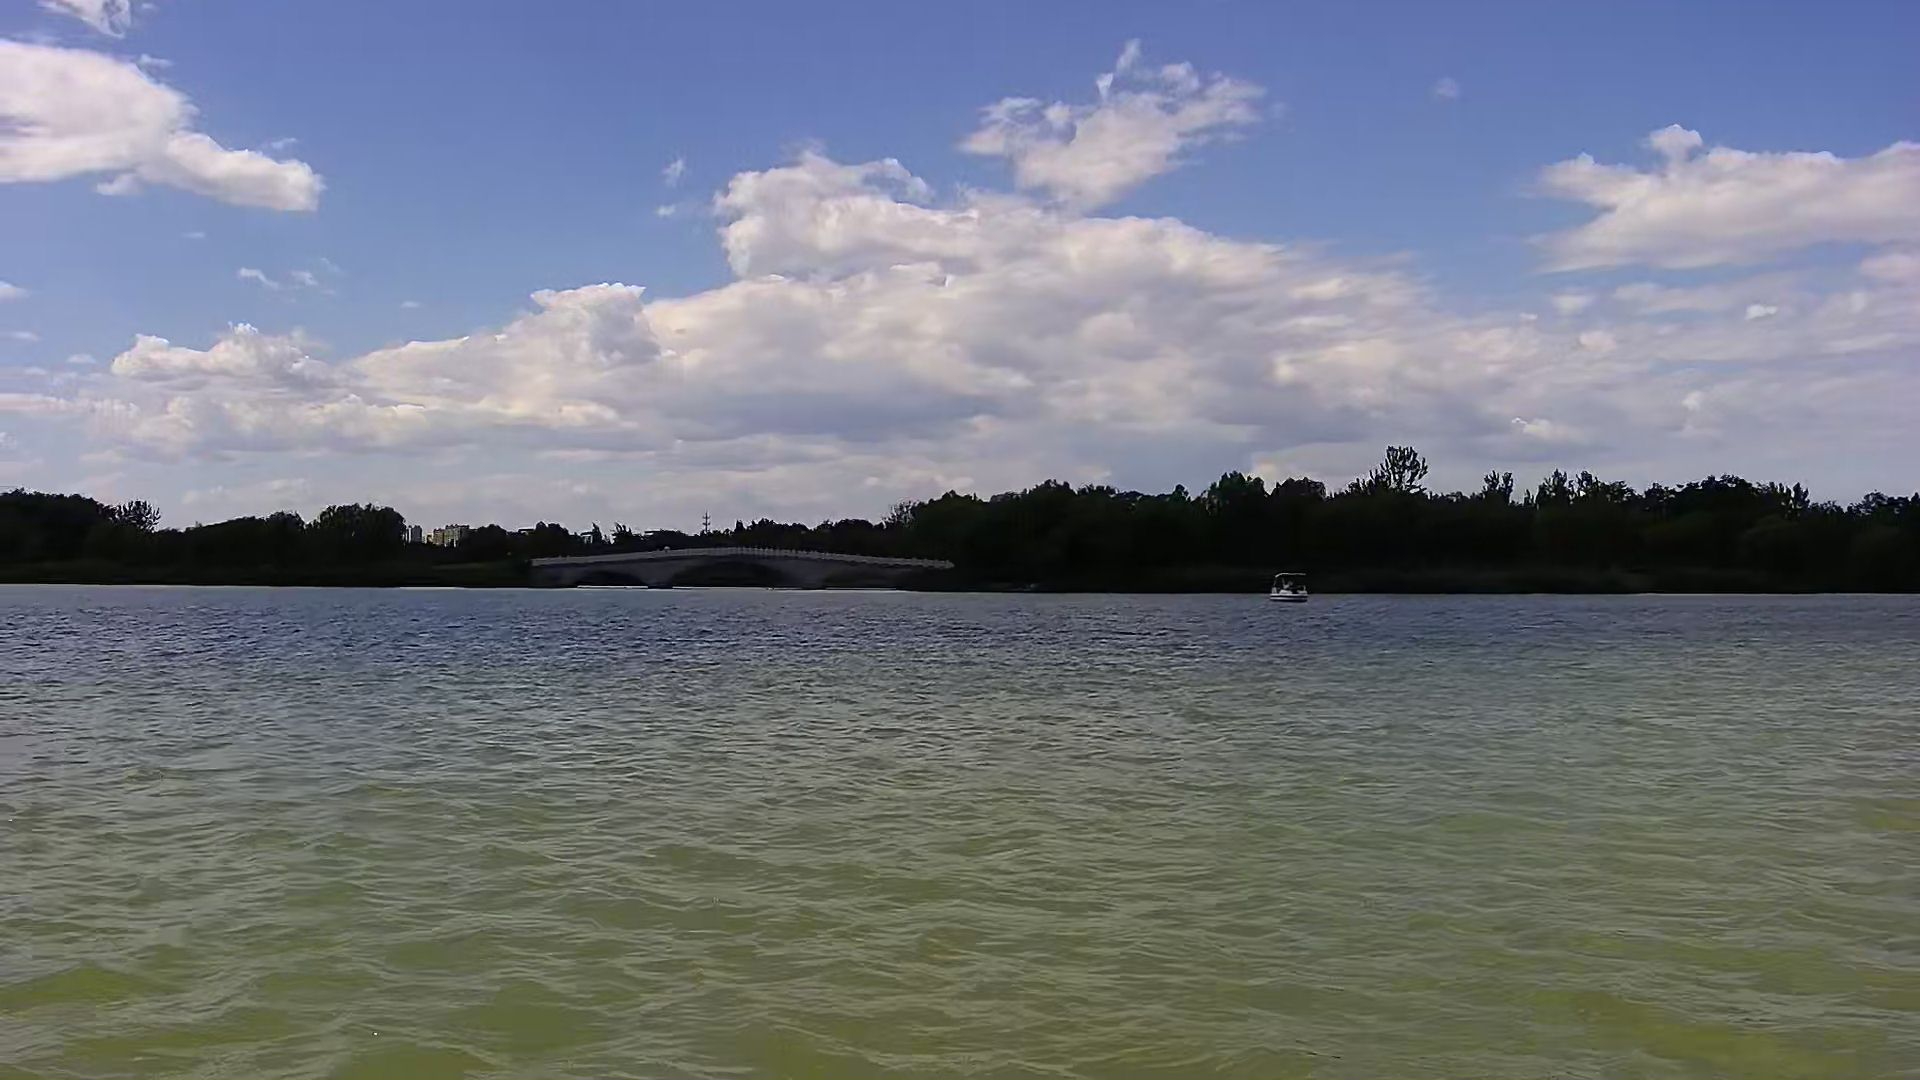boat: (1265, 559, 1321, 607)
bridge: (524, 542, 960, 595)
